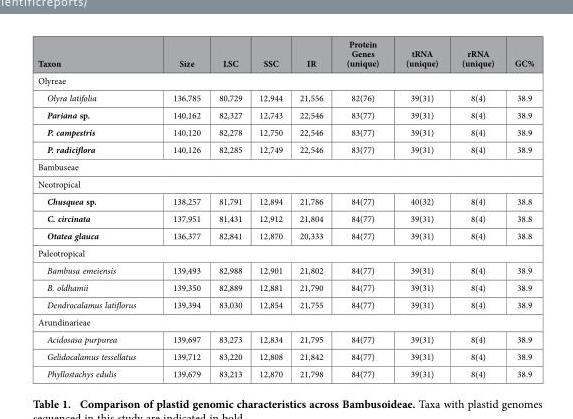table: (37, 37, 533, 379)
table column: (37, 37, 153, 379), (391, 37, 449, 379), (334, 37, 391, 379), (153, 37, 209, 379), (449, 37, 503, 379), (290, 37, 334, 379), (209, 37, 250, 379), (250, 37, 290, 379), (503, 37, 533, 379)
table column header: (37, 37, 533, 71)
table projected row header: (37, 174, 533, 192), (37, 71, 533, 88), (37, 157, 533, 174), (37, 244, 533, 261), (37, 313, 533, 330)
table row: (37, 37, 533, 71), (37, 105, 533, 123), (37, 174, 533, 192), (37, 226, 533, 244), (37, 295, 533, 313), (37, 71, 533, 88), (37, 88, 533, 105), (37, 123, 533, 140), (37, 140, 533, 157), (37, 157, 533, 174), (37, 192, 533, 209), (37, 209, 533, 226), (37, 244, 533, 261), (37, 261, 533, 278), (37, 278, 533, 295), (37, 313, 533, 330), (37, 330, 533, 347), (37, 347, 533, 364), (37, 364, 533, 379)
